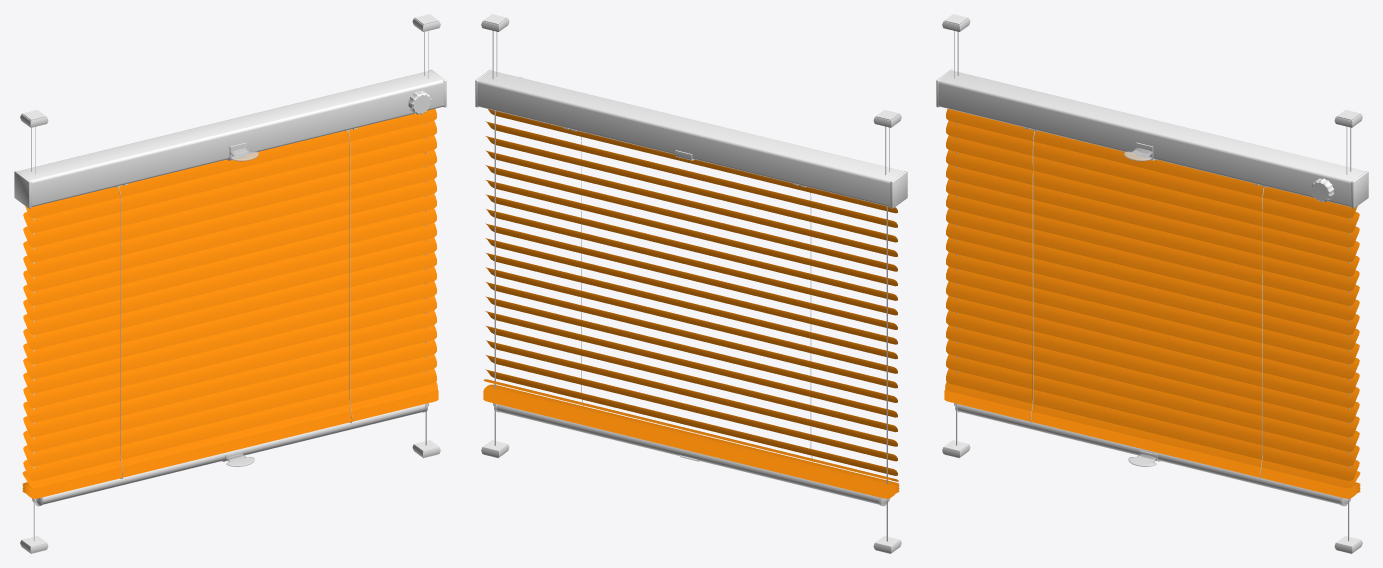
The model's file is 8700 Verspannte Jalousie Duoflex.glb.
3 views of the same model, side by side, from view 1: azimuth 30°, elevation 25°; view 2: azimuth 150°, elevation 25°; view 3: azimuth 330°, elevation 25° (orthographic).
Parts seen in each view (by area): view 1: Top Balken, jalousie.002, jalousie.038, jalousie.031, jalousie.039, jalousie.043, jalousie.033, jalousie.040, jalousie.035, jalousie.036, jalousie.034, jalousie.041 (+18 smaller); view 2: Top Balken, jalousie.050, balken unten.001, jalousie.037, jalousie.032, jalousie.040, jalousie.030, jalousie.035, jalousie.036, jalousie.044, jalousie.002, jalousie.003 (+18 smaller); view 3: Top Balken, jalousie.002, jalousie.038, jalousie.031, jalousie.039, jalousie.043, jalousie.033, jalousie.040, jalousie.035, jalousie.003, jalousie.034, jalousie.036 (+18 smaller).
Part boxes in pixels (x1,y1,x2,y2): Top Balken: (18,70,444,206); jalousie.002: (23,135,436,247); jalousie.038: (23,281,436,393); jalousie.031: (23,179,436,291); jalousie.039: (23,296,436,407); jalousie.043: (23,354,436,466); jalousie.033: (23,208,436,320); jalousie.040: (23,310,436,422); jalousie.035: (23,237,436,349); jalousie.036: (23,252,436,364); jalousie.034: (23,223,436,334); jalousie.041: (23,325,436,437); Top Balken: (477,70,903,206); jalousie.050: (483,384,899,491); balken unten.001: (496,404,885,505); jalousie.037: (485,267,897,373); jalousie.032: (485,194,897,300); jalousie.040: (485,311,897,417); jalousie.030: (485,165,897,271); jalousie.035: (485,238,897,344); jalousie.036: (485,252,897,359); jalousie.044: (485,369,897,475); jalousie.002: (485,136,897,242); jalousie.003: (485,150,897,256); Top Balken: (938,70,1364,206); jalousie.002: (946,135,1359,247); jalousie.038: (946,281,1359,393); jalousie.031: (946,179,1359,291); jalousie.039: (946,296,1359,407); jalousie.043: (946,354,1359,466); jalousie.033: (946,208,1359,320); jalousie.040: (946,310,1359,422); jalousie.035: (946,237,1359,349); jalousie.003: (946,150,1359,262); jalousie.034: (946,223,1359,334); jalousie.036: (946,252,1359,364).
Size of the model in its own units: 1.35 by 1.34 by 0.1557.
Materials: 3 (1 with a texture image).
